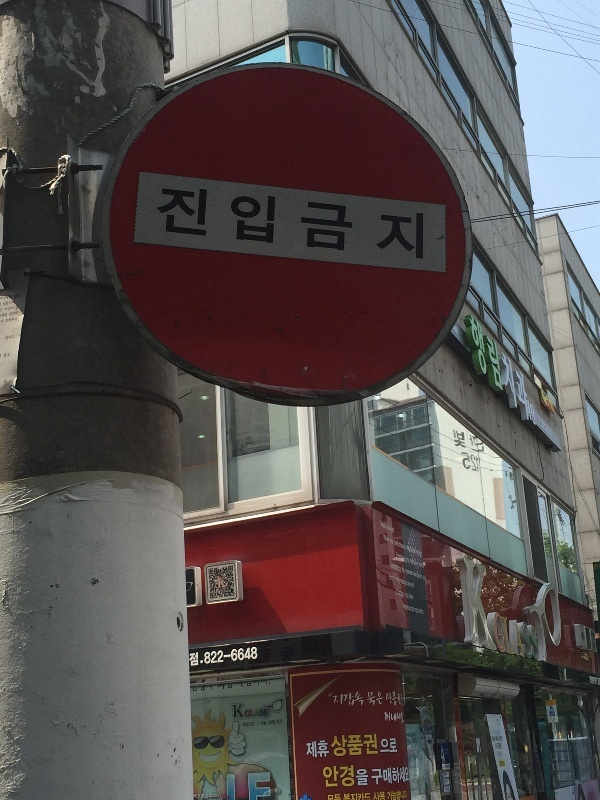text: (465, 555, 480, 653), (481, 555, 496, 653), (465, 304, 480, 400), (481, 304, 496, 400), (513, 346, 528, 430), (498, 346, 512, 430), (305, 196, 320, 266), (321, 196, 336, 266), (337, 196, 352, 266), (353, 196, 368, 266), (369, 196, 384, 266), (385, 196, 400, 266), (401, 196, 416, 266), (161, 183, 176, 250), (177, 183, 192, 250), (193, 183, 208, 250), (209, 183, 224, 250), (225, 183, 240, 250), (241, 183, 256, 250), (257, 183, 272, 250), (497, 608, 512, 662), (513, 608, 528, 662), (456, 555, 464, 653), (417, 196, 427, 266), (497, 304, 504, 400), (529, 608, 541, 662), (486, 608, 496, 662), (385, 533, 400, 560), (401, 533, 416, 560), (257, 772, 272, 799), (273, 183, 279, 250), (465, 450, 481, 475), (226, 773, 240, 800), (337, 733, 352, 758), (353, 733, 368, 758), (321, 764, 336, 789), (337, 764, 352, 789), (401, 559, 416, 584), (209, 646, 224, 667), (225, 646, 240, 667), (241, 646, 256, 667), (468, 429, 480, 454), (401, 550, 416, 570), (401, 573, 416, 592), (306, 740, 320, 759), (529, 396, 537, 429), (337, 690, 352, 707), (369, 733, 379, 758), (390, 559, 400, 584), (417, 559, 427, 584), (355, 768, 368, 787), (247, 772, 256, 799), (369, 691, 385, 706), (452, 429, 464, 449), (386, 690, 400, 707), (403, 601, 416, 619), (372, 767, 384, 786), (388, 573, 400, 592), (401, 586, 414, 603), (385, 738, 398, 754), (353, 690, 365, 707), (290, 762, 304, 776), (385, 711, 400, 724), (417, 533, 424, 560), (193, 651, 204, 668), (385, 519, 396, 536), (290, 778, 304, 791), (321, 740, 330, 759), (417, 550, 425, 570), (401, 767, 410, 784), (385, 767, 393, 786), (241, 679, 256, 689), (257, 679, 272, 689), (417, 601, 425, 619), (387, 789, 400, 800), (406, 732, 416, 746), (545, 420, 552, 440), (392, 767, 400, 784), (497, 751, 512, 760), (158, 183, 160, 250), (232, 703, 240, 719), (481, 429, 486, 454), (1, 318, 16, 326), (244, 708, 256, 718), (497, 743, 512, 751), (353, 792, 368, 800), (193, 685, 208, 693), (329, 690, 336, 707), (442, 746, 448, 765), (2, 311, 16, 319), (194, 792, 208, 800), (257, 708, 268, 718), (1, 307, 16, 314), (1, 295, 16, 302), (217, 575, 224, 590), (3, 299, 16, 307), (332, 733, 336, 758), (395, 550, 400, 570), (497, 555, 498, 653), (593, 675, 600, 689), (4, 377, 16, 385), (4, 305, 16, 313), (499, 760, 512, 767), (262, 718, 272, 727), (273, 718, 283, 727), (374, 791, 384, 800), (4, 352, 16, 359), (204, 646, 208, 667), (529, 346, 530, 430), (6, 334, 16, 342), (243, 721, 256, 727), (461, 450, 464, 475), (538, 417, 544, 429), (6, 316, 16, 323), (380, 519, 384, 536), (396, 586, 400, 603), (401, 789, 407, 800), (526, 396, 528, 429), (241, 703, 245, 719), (344, 792, 352, 800), (225, 684, 234, 691), (541, 420, 544, 440), (401, 711, 405, 724), (189, 651, 192, 668), (401, 690, 404, 707), (353, 764, 355, 789), (217, 684, 224, 691), (381, 738, 384, 754), (328, 794, 336, 800), (289, 745, 293, 757), (10, 310, 16, 317), (589, 675, 592, 689), (497, 736, 503, 743), (441, 773, 448, 779), (209, 685, 214, 693), (465, 429, 467, 449), (442, 780, 448, 786), (442, 788, 448, 794), (209, 792, 213, 800), (17, 292, 21, 300), (225, 575, 227, 590), (337, 794, 342, 800), (237, 679, 240, 689), (258, 722, 272, 724), (383, 533, 384, 560), (443, 773, 448, 778), (257, 646, 258, 667), (444, 748, 448, 753), (445, 787, 448, 793), (369, 792, 371, 800), (444, 780, 448, 784), (367, 691, 368, 706), (17, 310, 19, 317), (417, 732, 418, 746), (445, 765, 448, 769), (445, 752, 448, 756), (449, 787, 451, 793), (385, 791, 386, 800), (15, 292, 16, 300), (449, 765, 451, 769), (17, 316, 18, 323), (495, 736, 496, 743), (449, 752, 450, 756)
